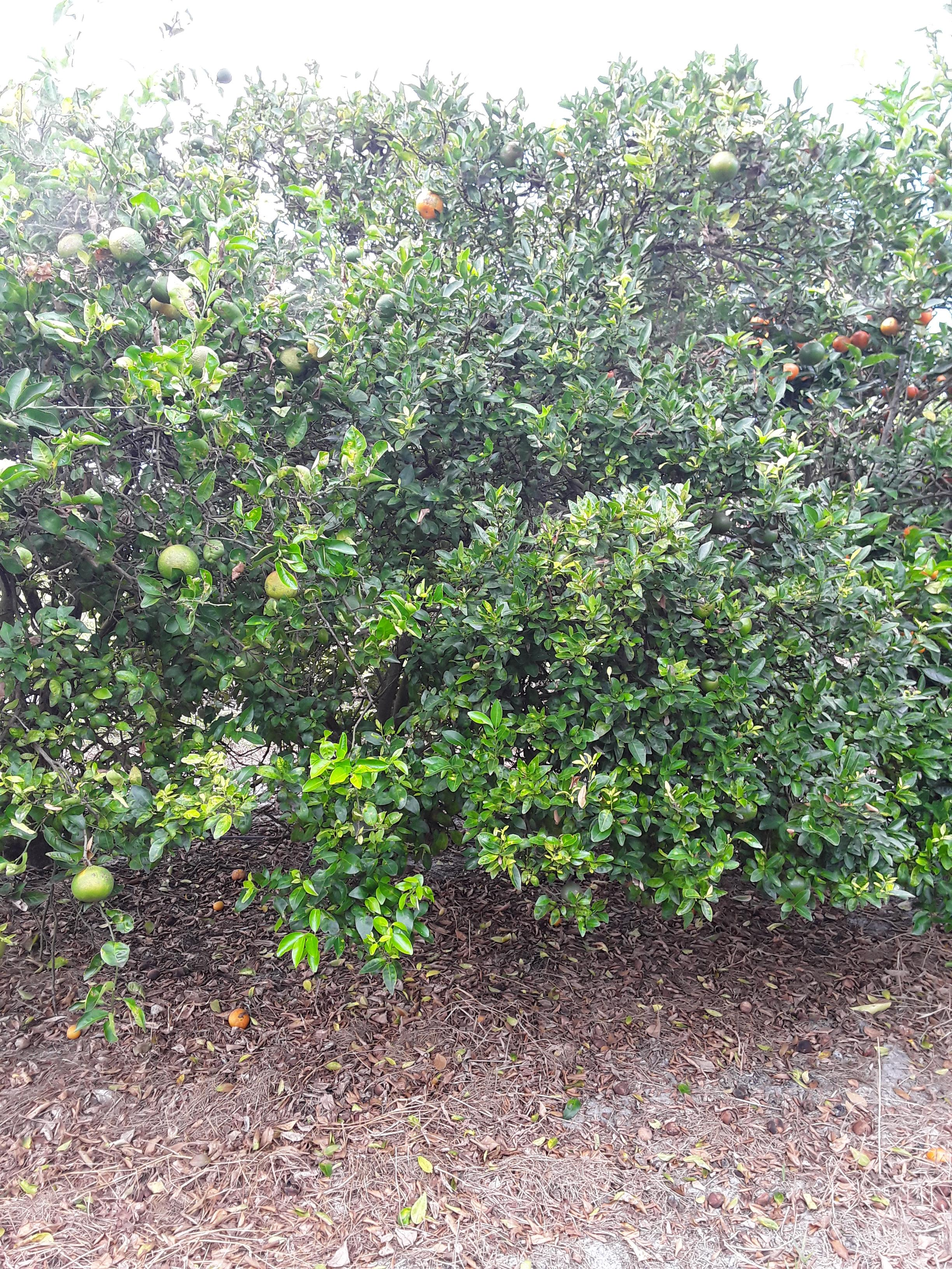fruit_on_ground: (153, 541, 203, 591), (261, 337, 319, 379), (70, 861, 117, 904), (109, 222, 145, 274), (709, 143, 742, 189), (182, 343, 224, 379), (418, 190, 454, 224), (307, 327, 339, 362), (495, 139, 529, 170), (54, 236, 93, 262), (143, 299, 185, 323), (264, 575, 303, 600), (149, 275, 184, 302), (686, 587, 716, 618), (204, 63, 239, 87), (700, 662, 725, 693), (829, 324, 851, 359), (181, 128, 205, 159), (751, 313, 786, 334), (798, 341, 826, 367), (776, 359, 803, 384), (900, 628, 927, 653), (915, 560, 943, 584), (728, 614, 755, 638), (710, 514, 739, 536), (343, 240, 368, 265), (850, 327, 875, 352), (912, 308, 943, 328), (877, 316, 905, 337), (923, 166, 948, 188), (375, 294, 396, 319), (898, 522, 921, 541), (933, 373, 952, 393), (897, 382, 918, 399)
fruit_on_tree: (221, 1007, 250, 1027), (704, 1190, 729, 1211), (209, 898, 237, 915), (850, 1119, 875, 1138), (715, 1108, 739, 1126), (924, 1148, 952, 1163), (662, 1118, 688, 1134), (765, 1120, 786, 1138), (64, 1025, 86, 1041), (612, 1081, 635, 1096), (144, 968, 165, 984), (231, 868, 251, 881), (632, 1126, 652, 1138), (547, 912, 564, 926), (738, 1004, 755, 1014)
